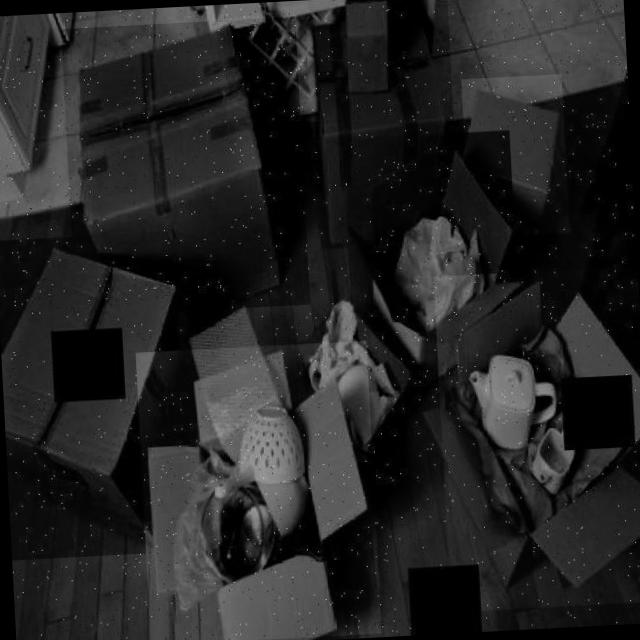box: (61, 17, 311, 317), (136, 340, 382, 640), (433, 265, 640, 611), (0, 232, 191, 561), (342, 130, 522, 392), (308, 0, 459, 250), (461, 74, 570, 237)
